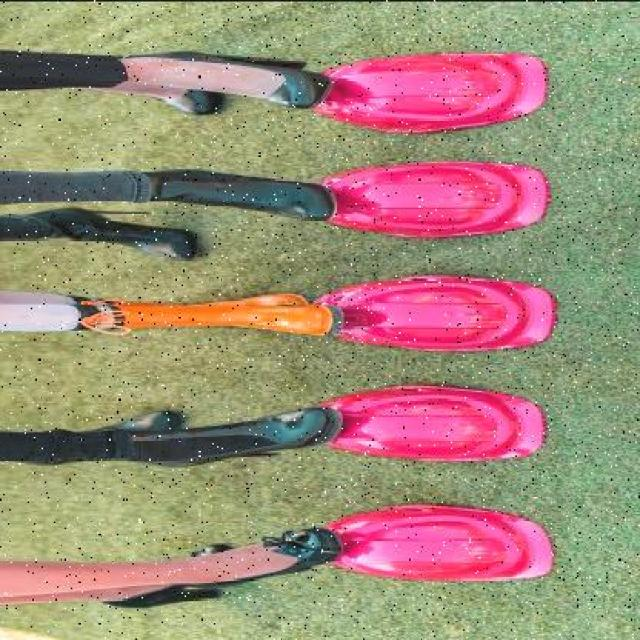shoes: (114, 402, 338, 462), (113, 292, 344, 336), (126, 170, 345, 201)
